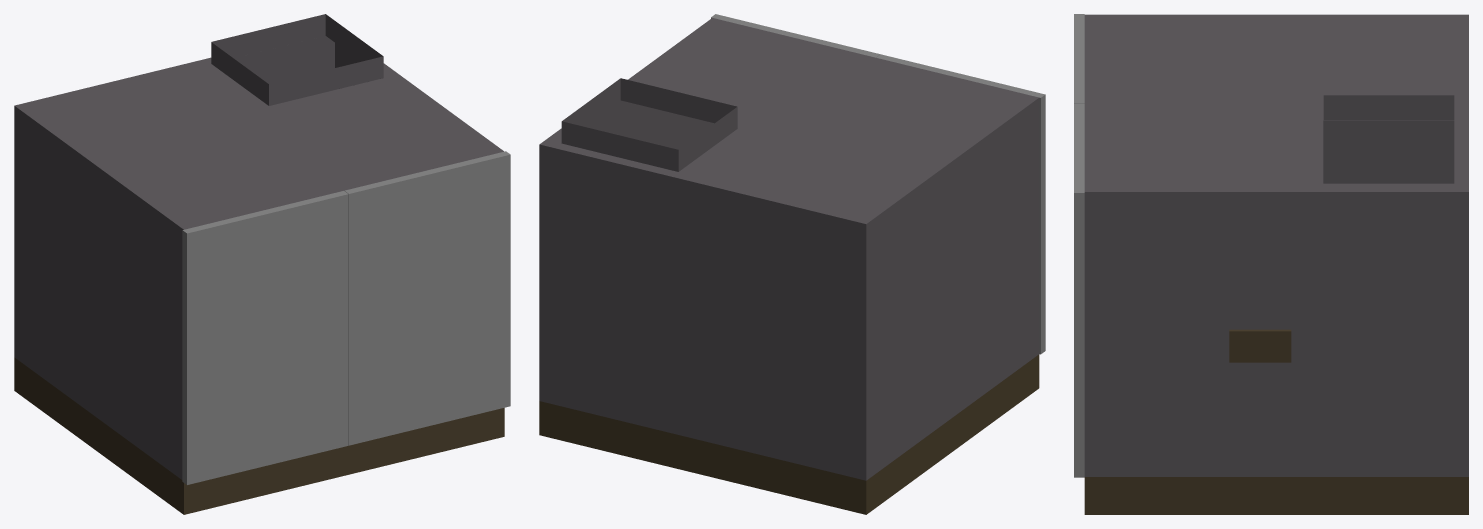
The model's file is elevator.fbx.
3 views of the same model, side by side, from view 1: azimuth 30°, elevation 25°; view 2: azimuth 150°, elevation 25°; view 3: azimuth 270°, elevation 25° (orthographic). The views are drawn at different scales.
Visible parts, largest first — view 1: Elevator, DoorRight, DoorLeft, Hatch; view 2: Elevator, Hatch, DoorRight, DoorLeft; view 3: Elevator, Hatch, DoorLeft, Screen, DoorRight.
Part boxes in pixels (x1=…): Elevator: x1=14, y1=36, x2=504, y2=514; DoorRight: x1=182, y1=191, x2=348, y2=484; DoorLeft: x1=344, y1=151, x2=510, y2=445; Hatch: x1=211, y1=14, x2=383, y2=105; Elevator: x1=539, y1=18, x2=1039, y2=514; Hatch: x1=561, y1=78, x2=737, y2=171; DoorRight: x1=876, y1=54, x2=1045, y2=354; DoorLeft: x1=711, y1=14, x2=880, y2=124; Elevator: x1=1084, y1=14, x2=1468, y2=514; Hatch: x1=1323, y1=95, x2=1454, y2=183; DoorLeft: x1=1074, y1=103, x2=1084, y2=477; Screen: x1=1229, y1=329, x2=1291, y2=362; DoorRight: x1=1074, y1=14, x2=1084, y2=103.
Size of the model in its own units: 355 by 321 by 330.
